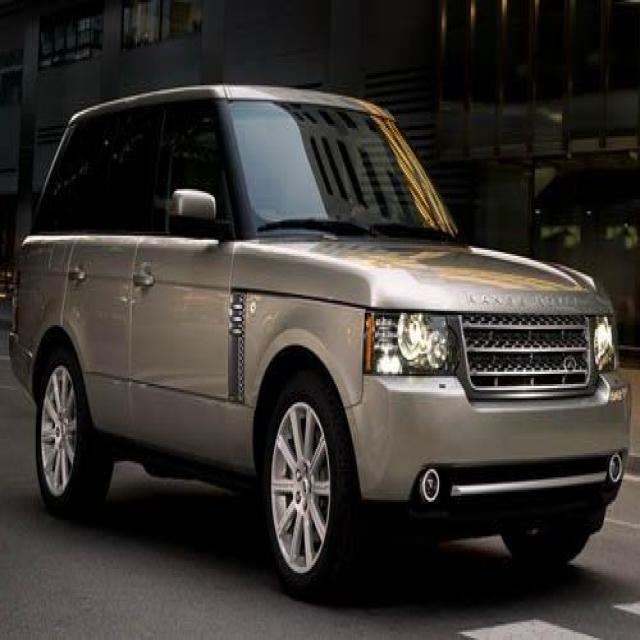car: (7, 84, 633, 603)
